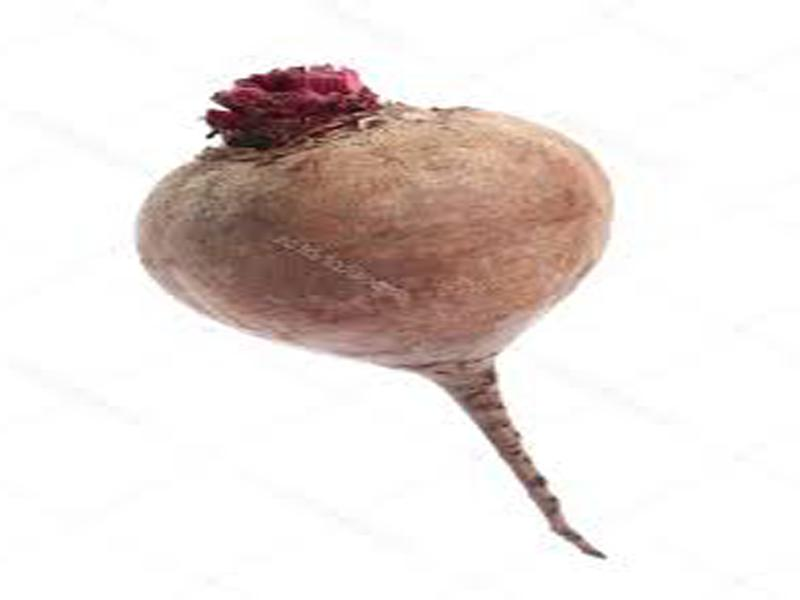Beet: (127, 67, 613, 558)
